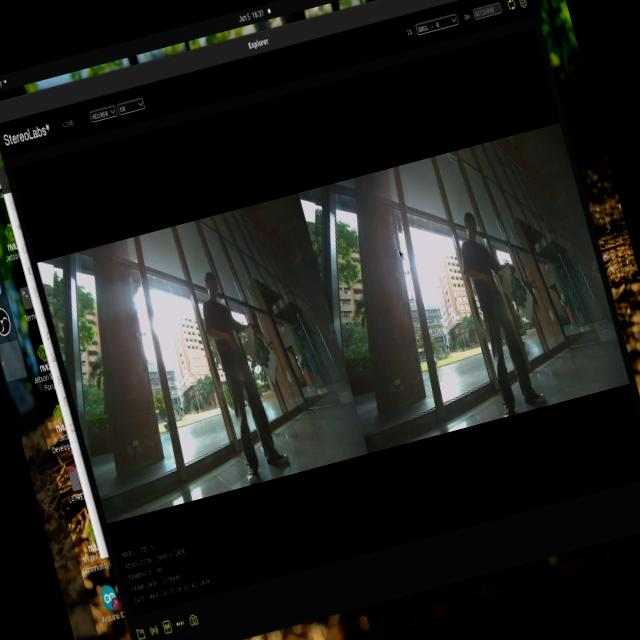green: (488, 268, 540, 324), (242, 326, 278, 376)
